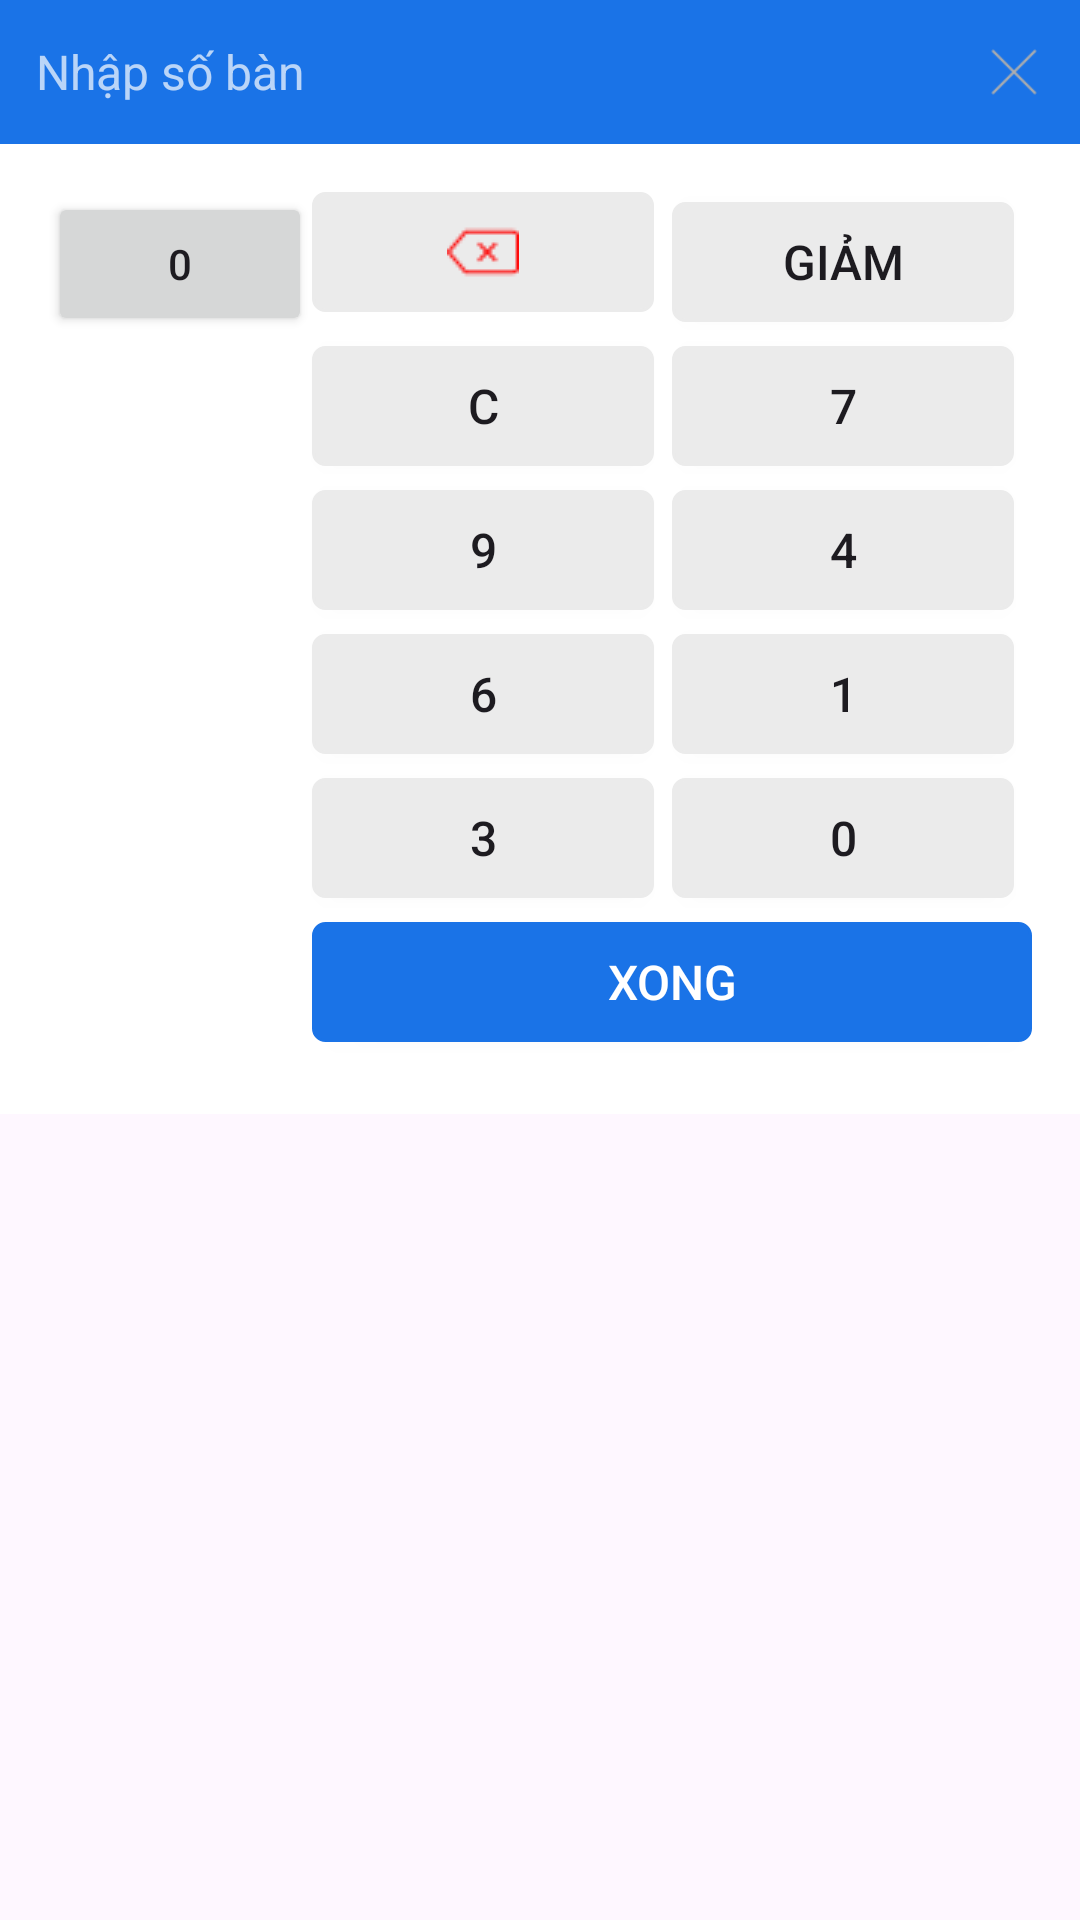

Point at icon controls on the screen. Image size 1080×1920, points as (x,y).
close: (1014,72)
Xóa: (483,252)
